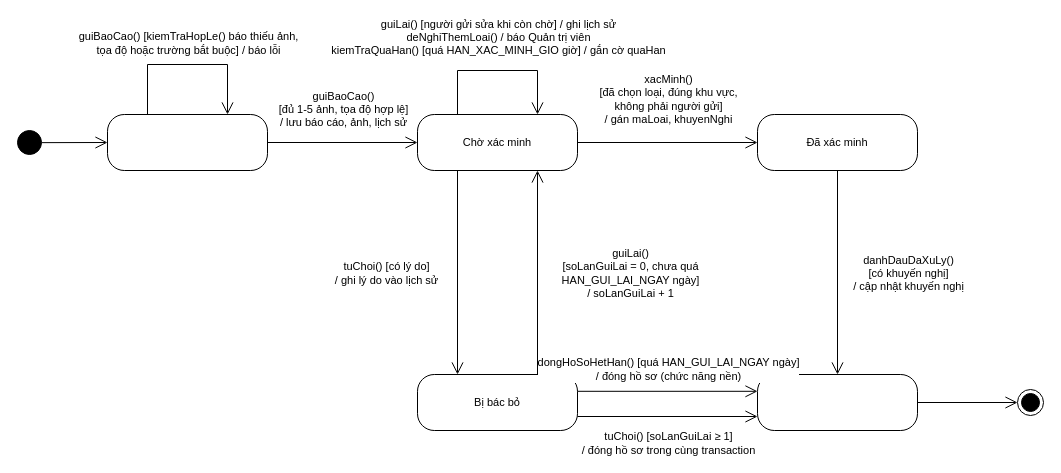
Some shapes in this 1061 by 473 pixel diagram are drawn without their labels. The centre of each missing label's shape, as x and y in pixels:
"Khởi tạo" belongs at (187,142).
"Đã xử lý" belongs at (837,402).
